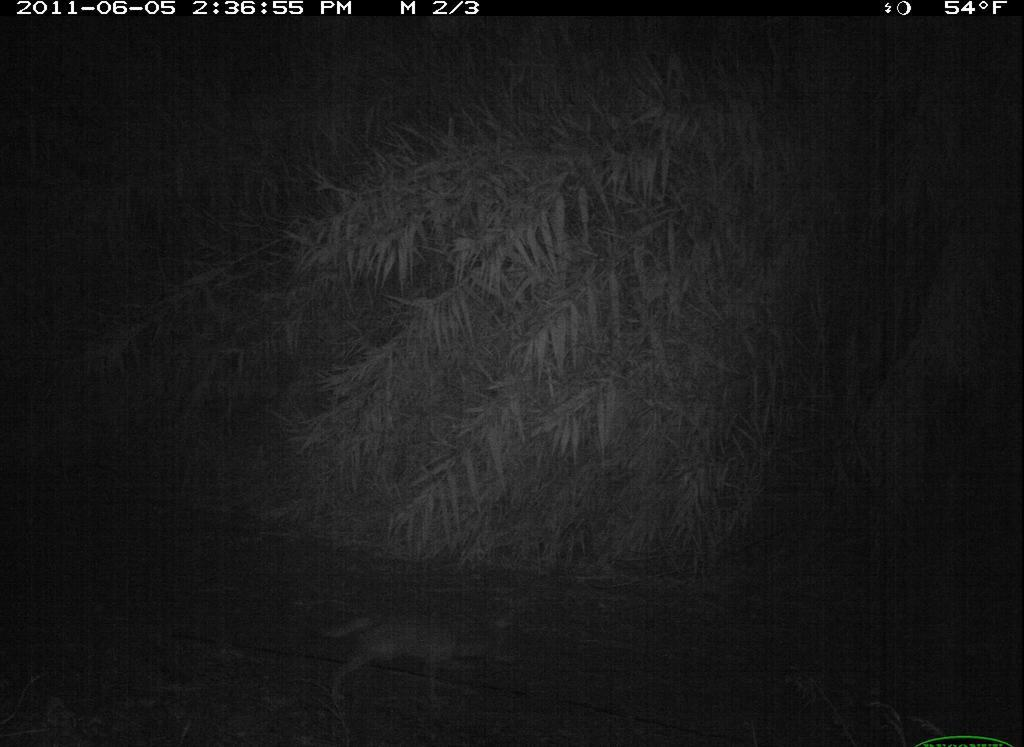coyote: (306, 593, 520, 724)
